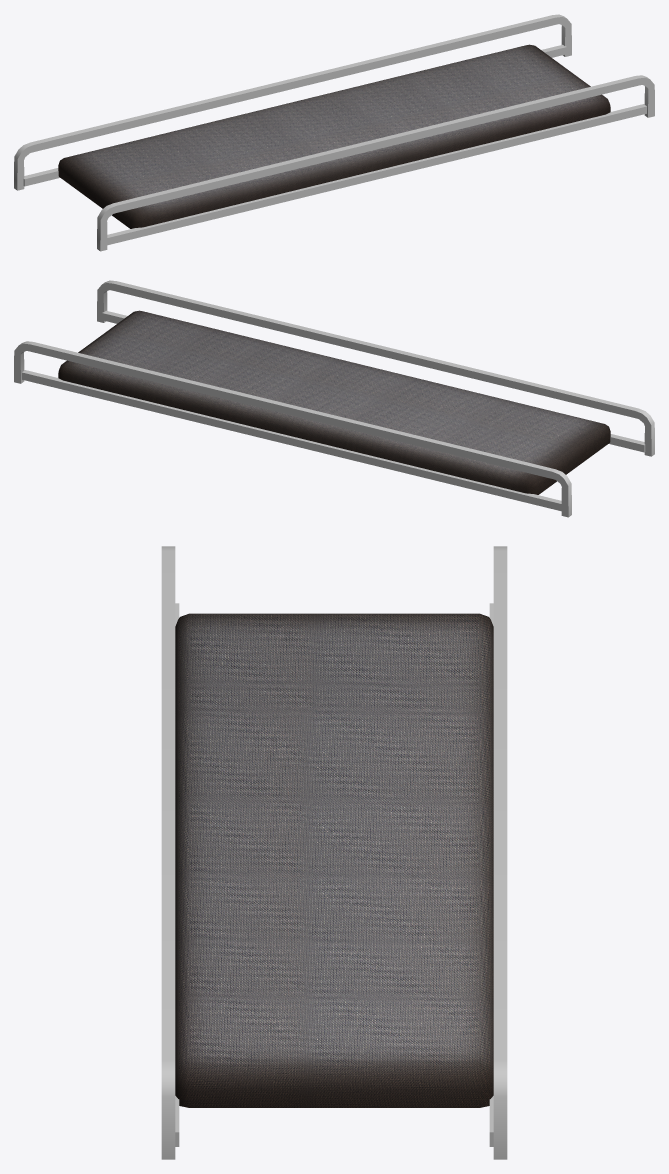
File: morgue_bed.fbx
The picture shows the model from 3 angles, top to bottom: view 1: azimuth 30°, elevation 25°; view 2: azimuth 150°, elevation 25°; view 3: azimuth 270°, elevation 25°; orthographic projection. The views are drawn at different scales.
Visible parts, largest first — view 1: morgue_bed; view 2: morgue_bed; view 3: morgue_bed.
Part boxes in pixels (<box>): morgue_bed: <box>14,14,654,251</box>; morgue_bed: <box>14,280,654,517</box>; morgue_bed: <box>161,546,507,1159</box>.
Size of what is drawn, in the model's own units: 273 by 19.66 by 73.67.
